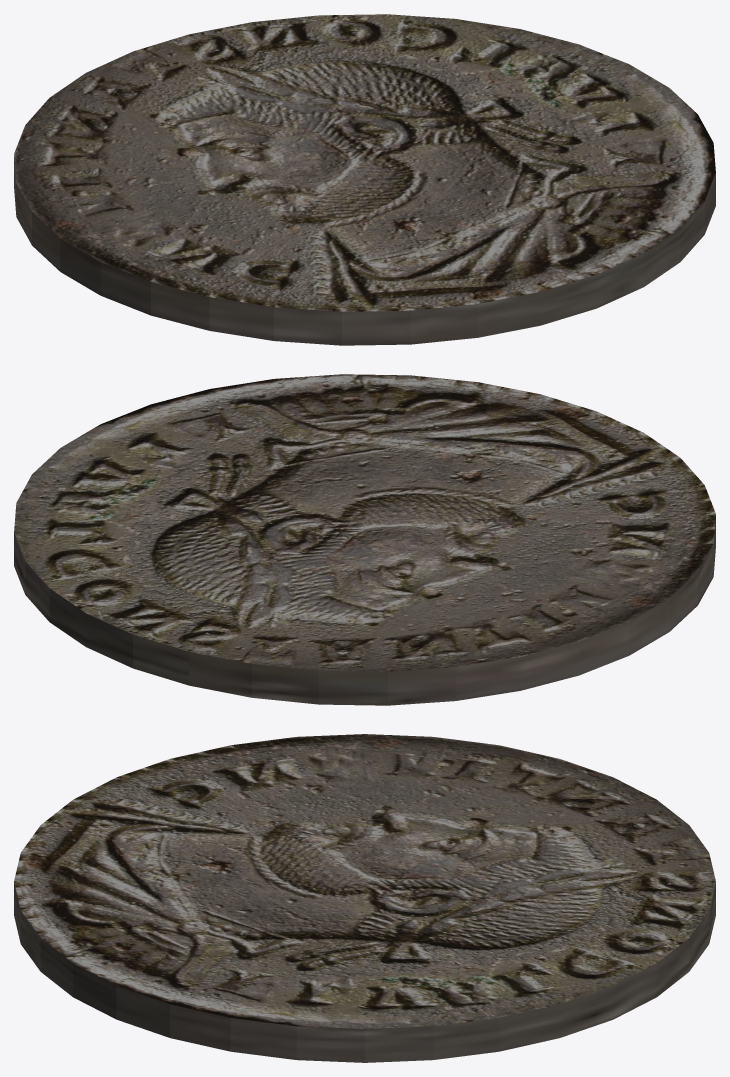
Rendered from roman_coin.glb.
3 views of the same model, one above another, from view 1: azimuth 30°, elevation 25°; view 2: azimuth 150°, elevation 25°; view 3: azimuth 270°, elevation 25° (orthographic).
Visible parts, largest first — view 1: Cylinder_2; view 2: Cylinder_2; view 3: Cylinder_2.
Part boxes in pixels (left/top/right/bottom): Cylinder_2: left=14, top=14, right=715, bottom=345; Cylinder_2: left=14, top=374, right=715, bottom=705; Cylinder_2: left=14, top=734, right=715, bottom=1062.
Size of the model in its own units: 2 by 0.1114 by 2.
Materials: 1 (1 with a texture image).
